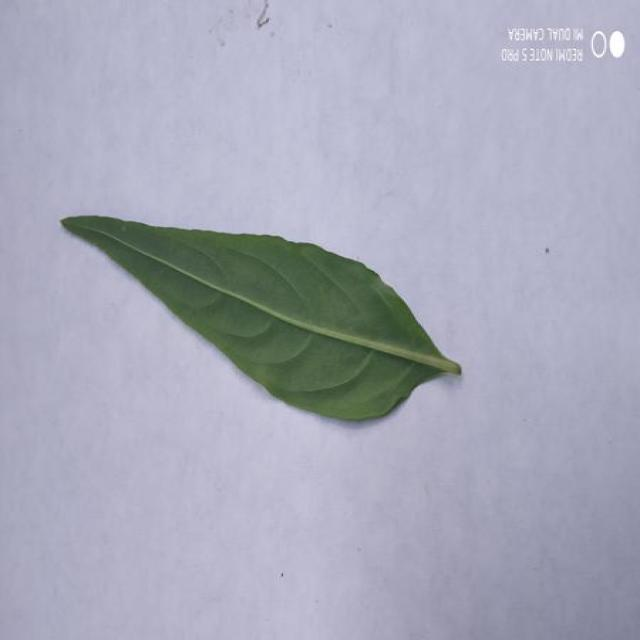Nelavembu: (63, 216, 460, 419)
